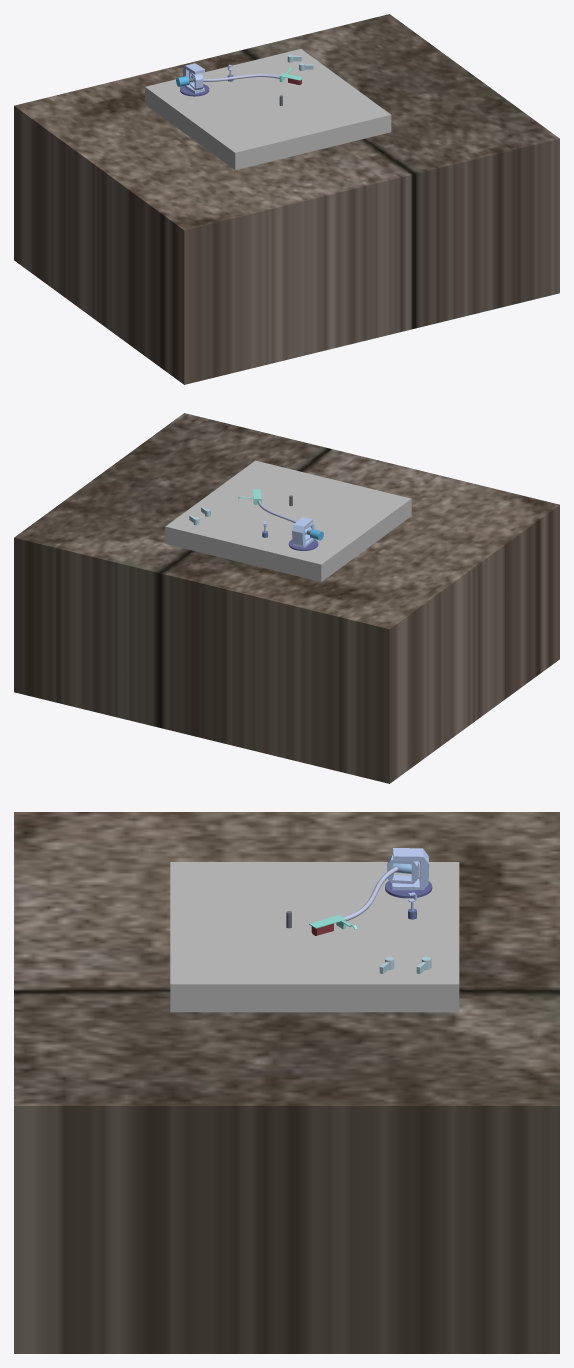
The model's file is mayphatnhac.fbx.
The picture shows the model from 3 angles, top to bottom: view 1: azimuth 30°, elevation 25°; view 2: azimuth 150°, elevation 25°; view 3: azimuth 270°, elevation 25°; orthographic projection. The views are drawn at different scales.
Visible parts, largest first — view 1: Cube.002; view 2: Cube.002; view 3: Cube.002.
Boxes of the visible parts, x1=… form: Cube.002: x1=14, y1=14, x2=559, y2=384; Cube.002: x1=14, y1=413, x2=559, y2=783; Cube.002: x1=14, y1=812, x2=559, y2=1353.
Size of the model in its own units: 865 by 429 by 679.
